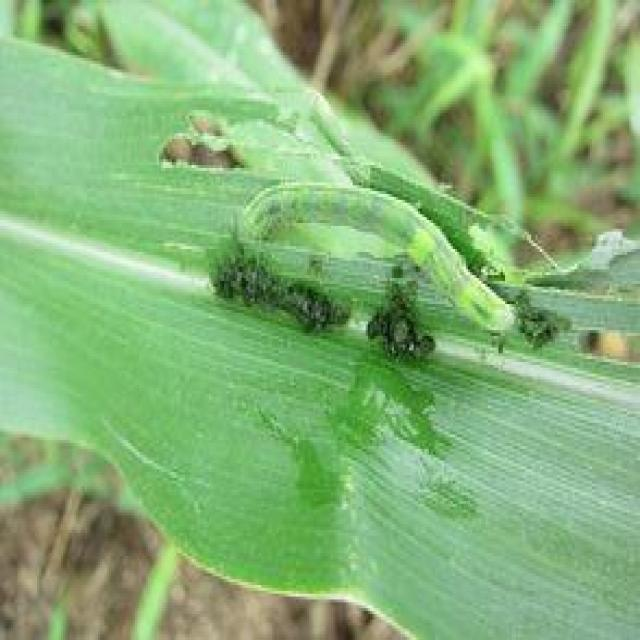BeetArmyWorm-Larva-: (235, 184, 520, 336)
